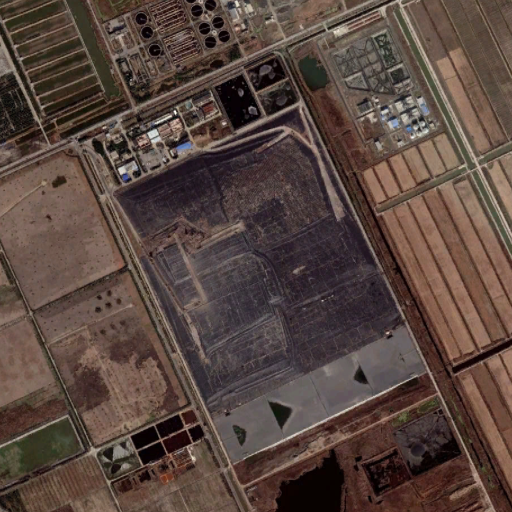lf: (120, 106, 423, 464)
